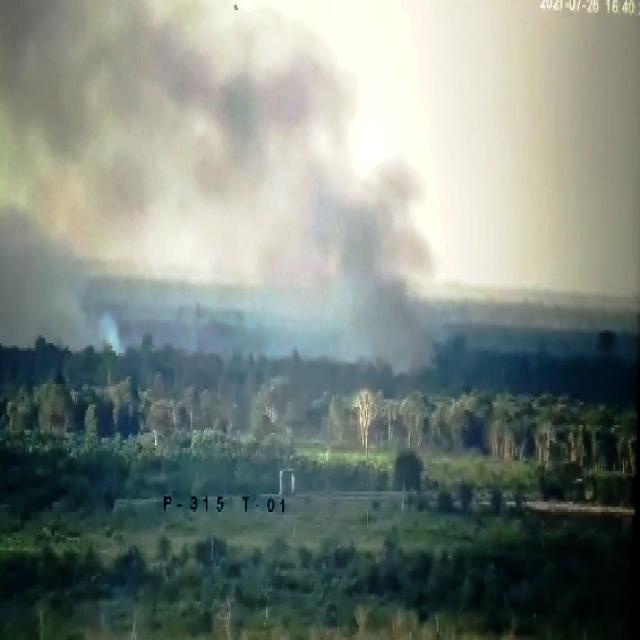asap: (1, 1, 445, 390), (1, 195, 141, 387)
